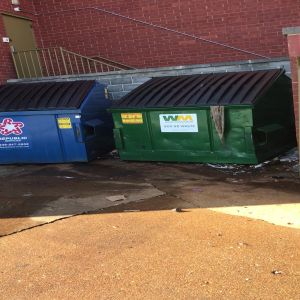Dumpster: (111, 67, 297, 166), (1, 82, 107, 165)
